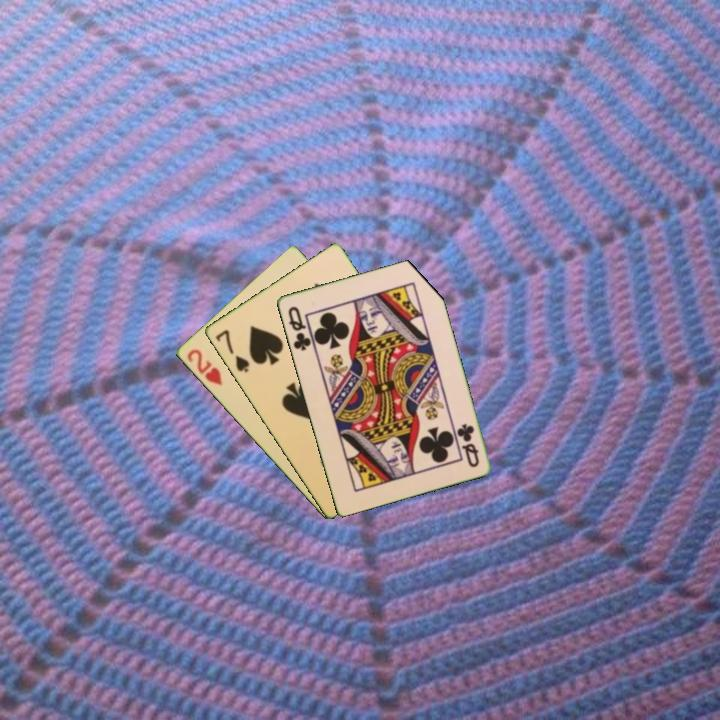2h: (183, 345, 225, 389)
7s: (212, 326, 252, 375)
Qc: (284, 302, 314, 354), (453, 420, 482, 470)
